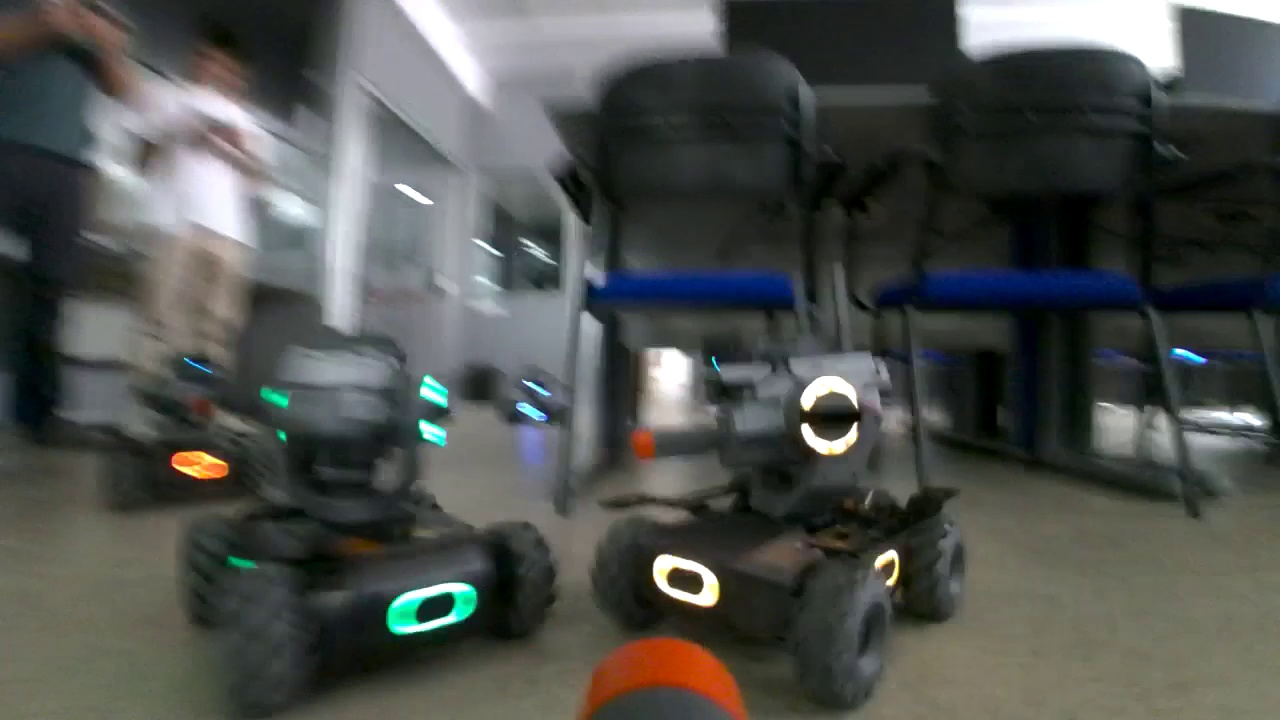robot: (593, 328, 971, 713), (176, 341, 557, 686)
